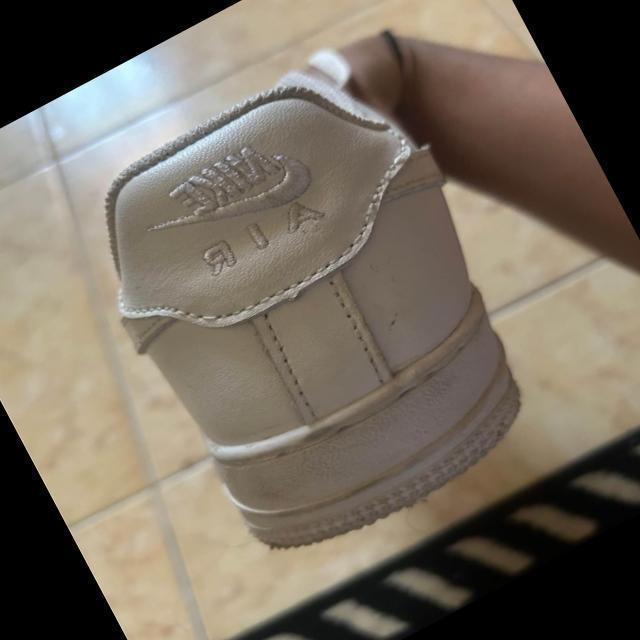nike fake air force: (53, 25, 575, 583)
